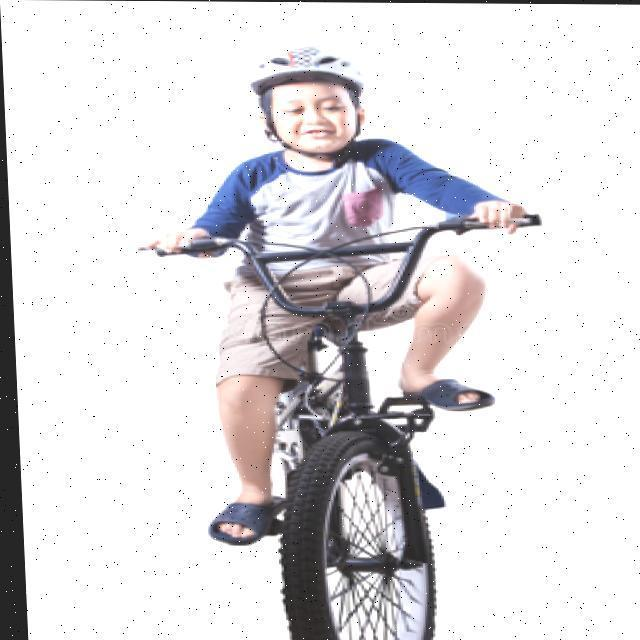Helmet: (227, 43, 389, 161)
